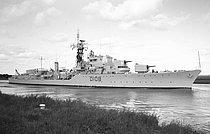MIL_Ship: (8, 30, 202, 88)
